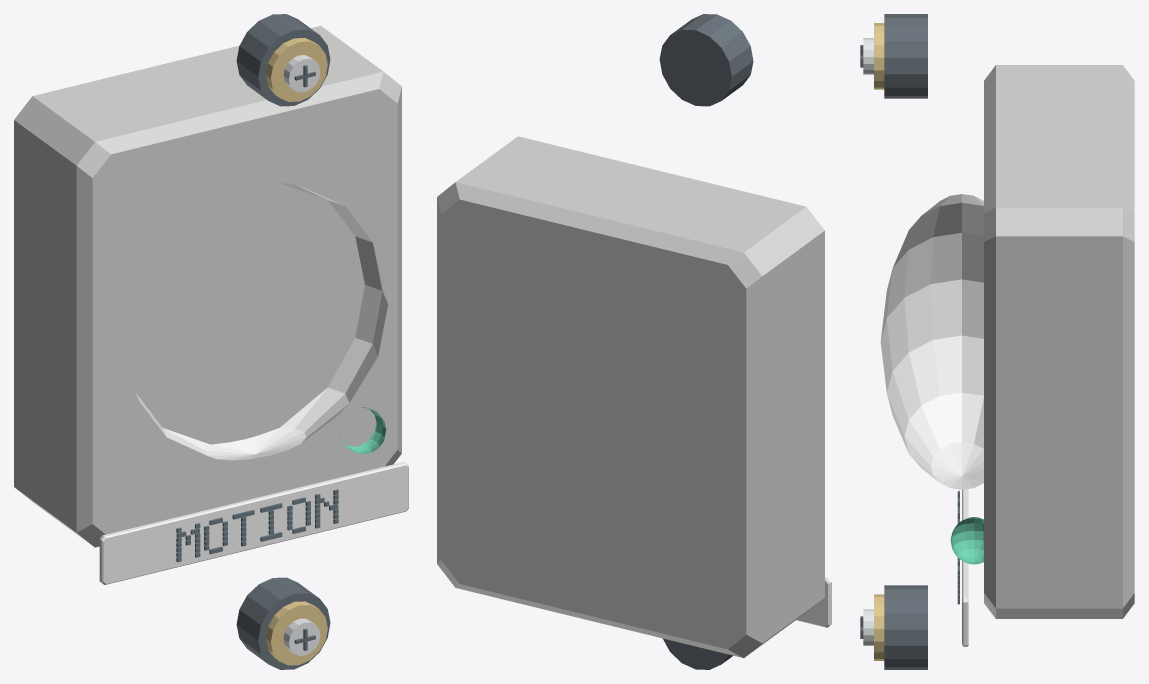
The model's file is motionSensor.glb.
3 views of the same model, side by side, from view 1: azimuth 30°, elevation 25°; view 2: azimuth 150°, elevation 25°; view 3: azimuth 270°, elevation 25° (orthographic).
Visible parts, largest first — view 1: motionSensor-preview; view 2: motionSensor-preview; view 3: motionSensor-preview.
Part boxes in pixels (bbox=[...]): motionSensor-preview: bbox=[14, 14, 408, 669]; motionSensor-preview: bbox=[437, 14, 831, 669]; motionSensor-preview: bbox=[860, 14, 1134, 669].
Bounding box in the file's own units: 1.41 × 2.65 × 1.02.
